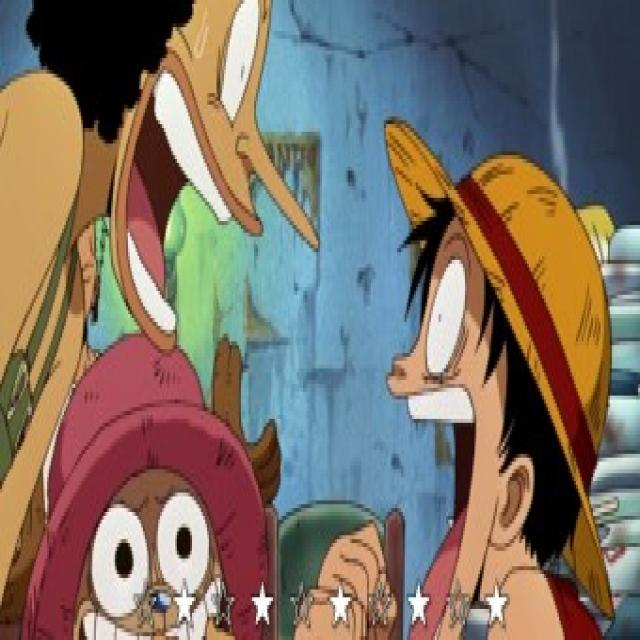Chyopa: (19, 334, 293, 640)
Luffy: (372, 93, 618, 640)
Usopp: (17, 0, 324, 361)
